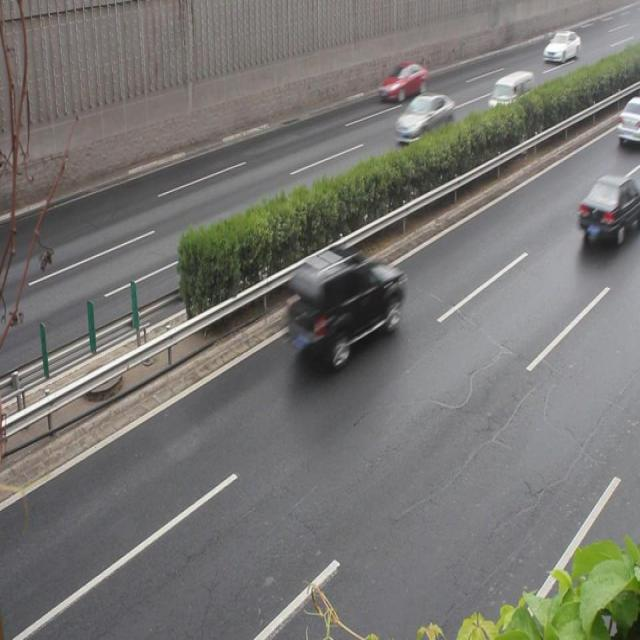car: (282, 248, 402, 364), (575, 176, 640, 248), (396, 92, 452, 149), (378, 62, 426, 101)
truck: (484, 72, 537, 132)
